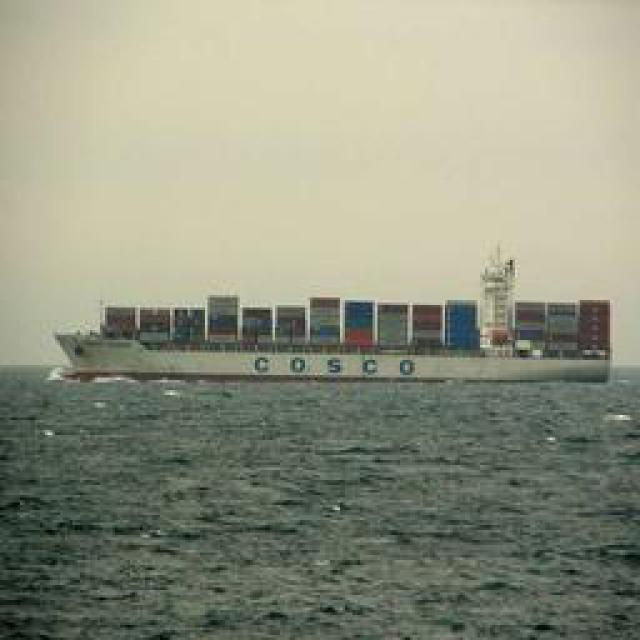Ship: (41, 301, 601, 384)
